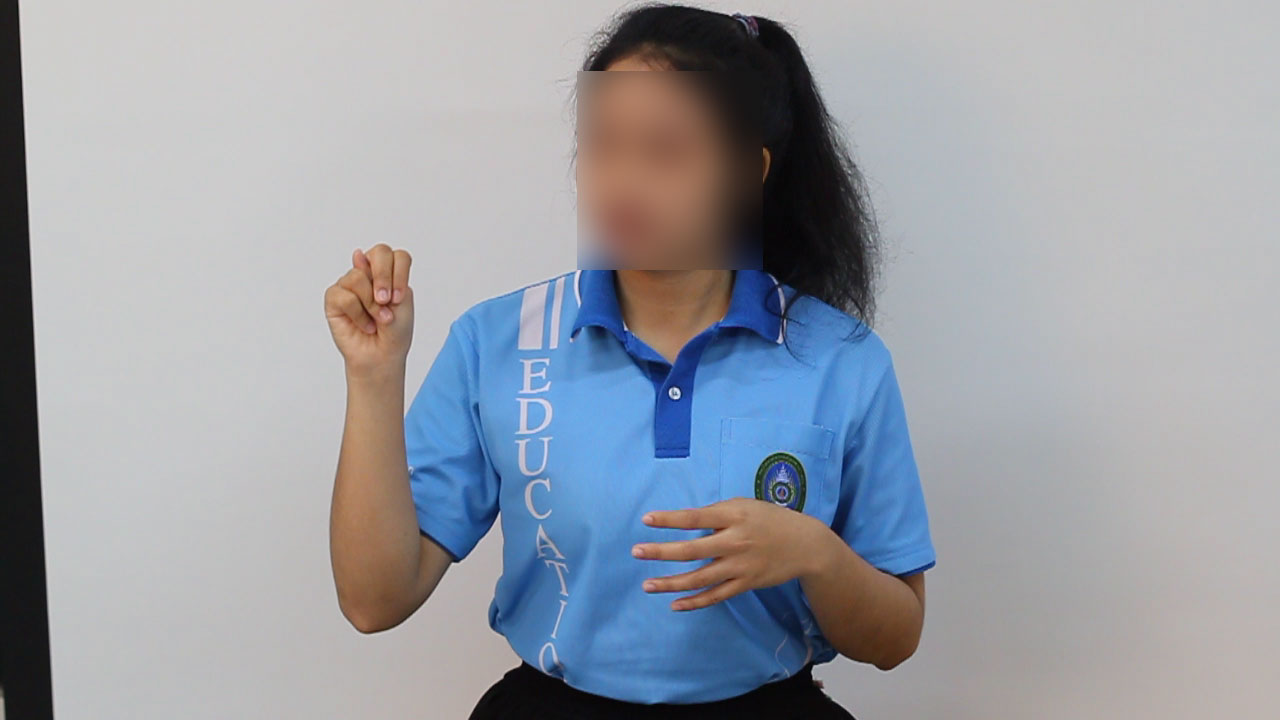nor: (319, 234, 423, 382)
